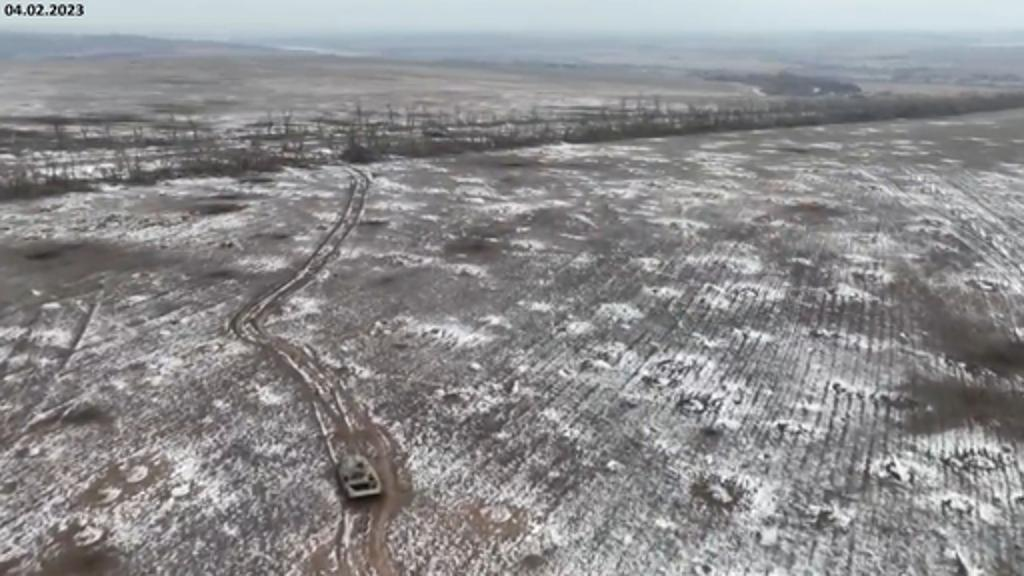APC-IFV: (326, 448, 384, 504)
